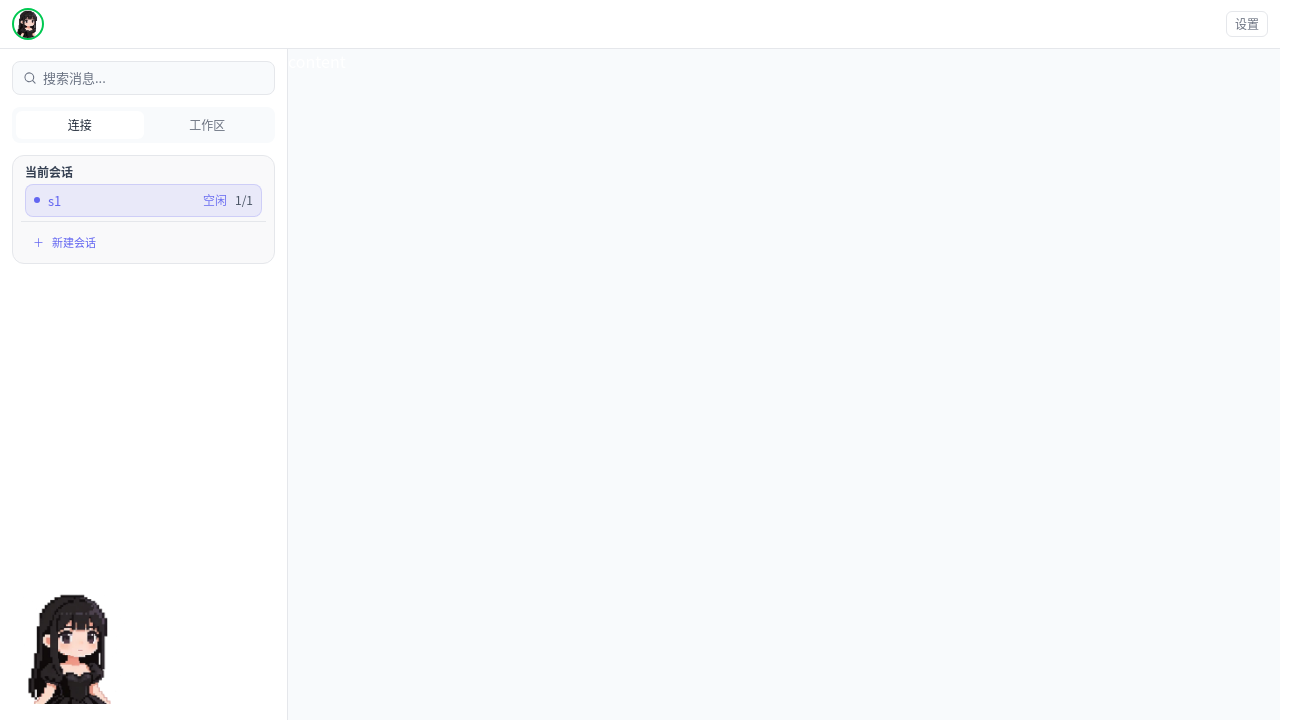
Test case: Layout › desktop layout › shows git change badges and opens a diff from the git tab
Click the tab "工作区" at (207, 124), box [144, 110, 271, 138]
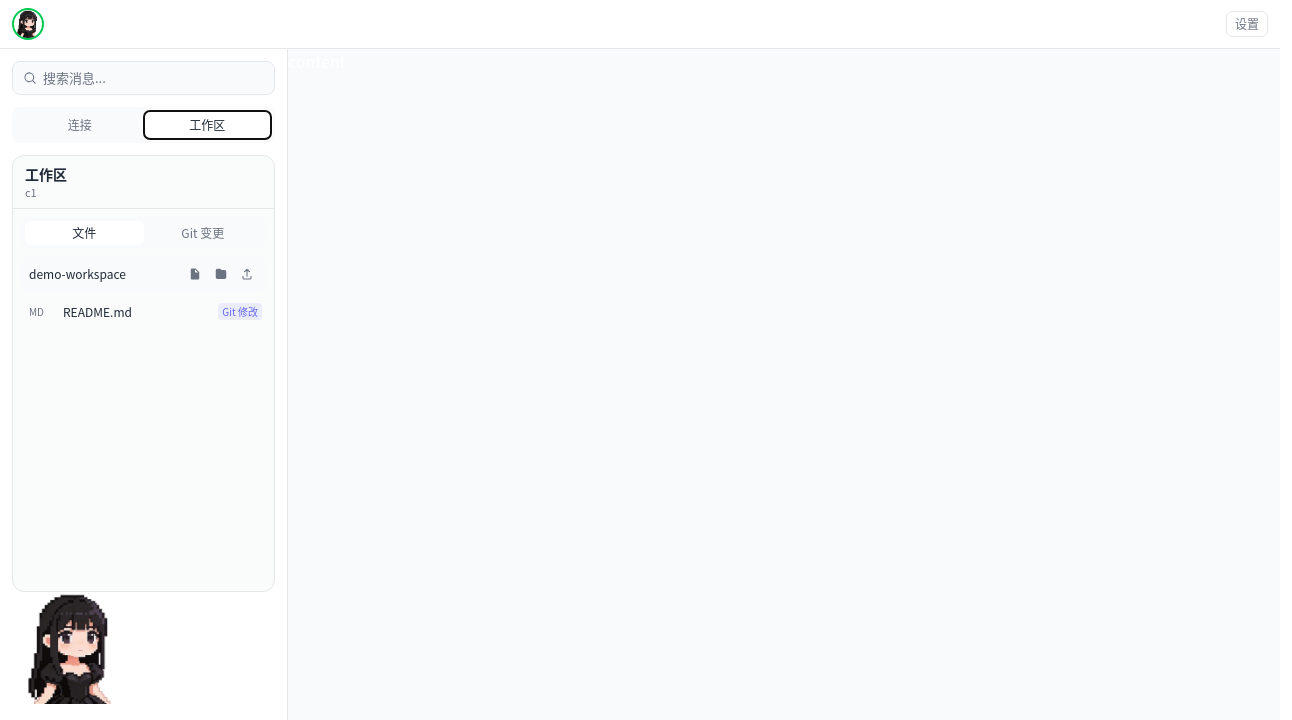
Expected: the text "Git 修改" is shown, [218, 303, 262, 320]
Click the button "Git 变更" at (203, 233), box [144, 221, 262, 245]
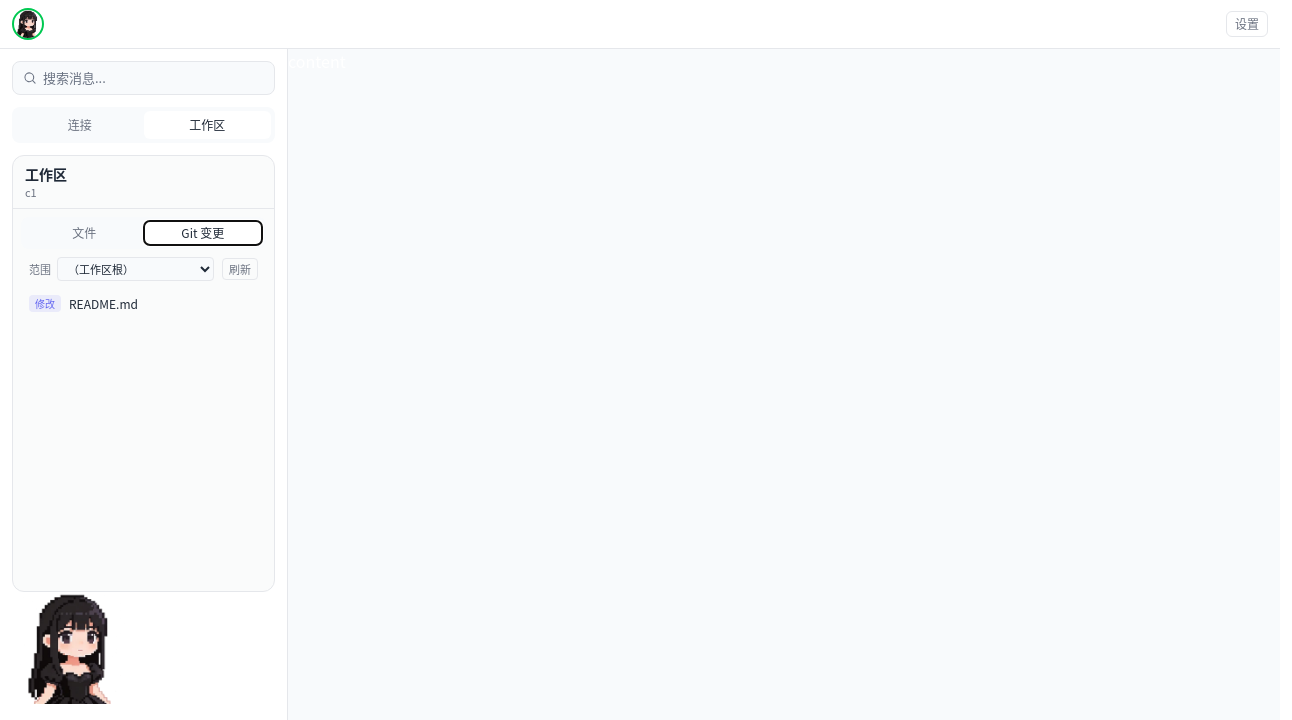
Click the button "修改 README.md" at (144, 304), box [21, 289, 266, 318]
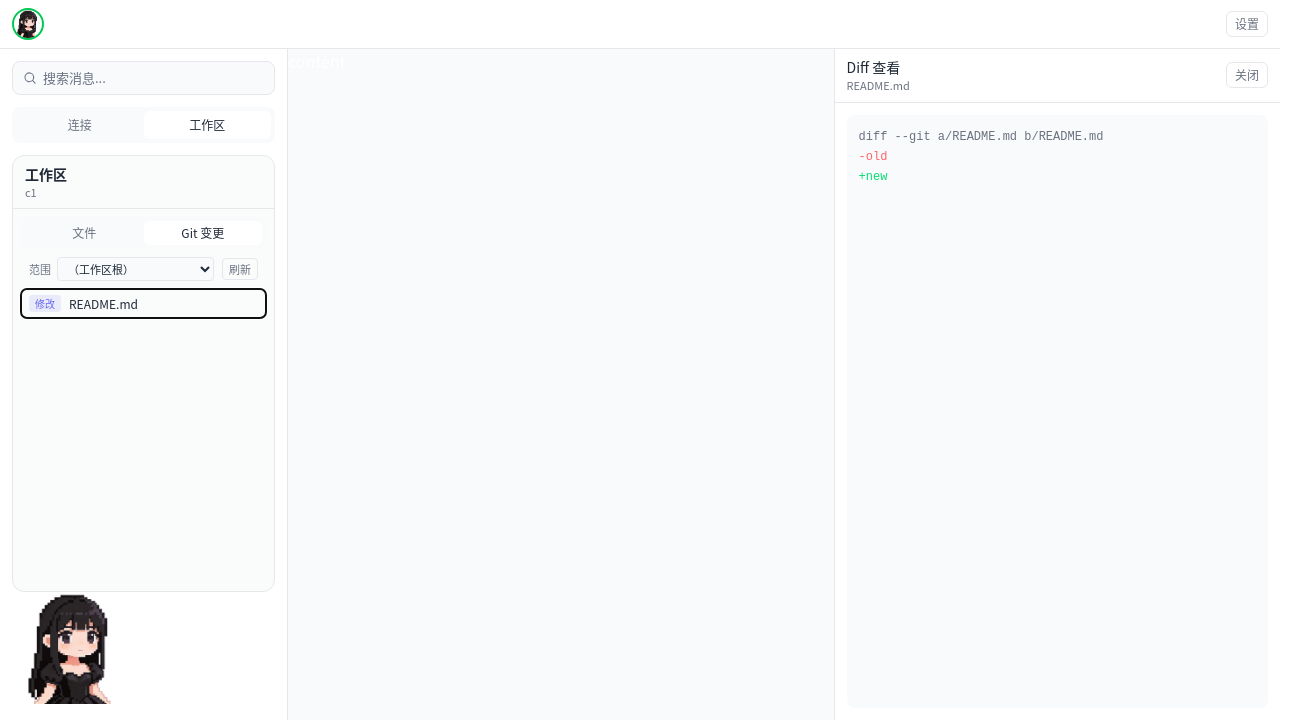
Expected: the text "Diff 查看" is shown, [847, 57, 900, 77]
Expected: the text "+new" is shown, [859, 170, 887, 184]
